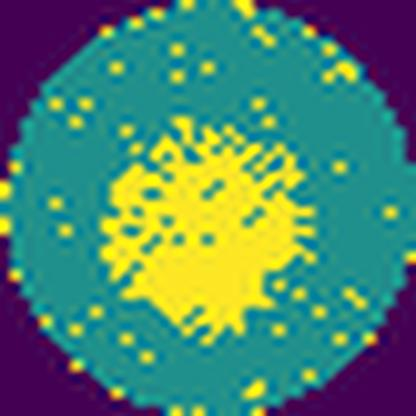Center: (99, 115, 321, 346)
